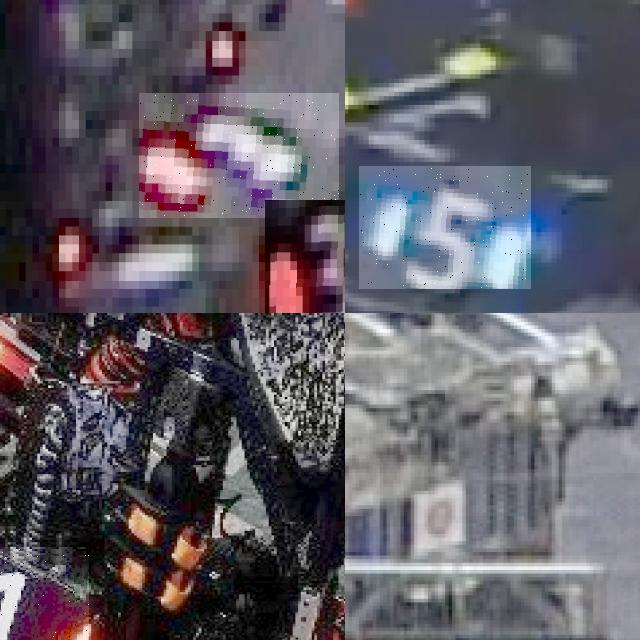B5: (359, 166, 531, 289)
R1: (0, 547, 88, 640)
R3: (139, 93, 339, 218), (265, 200, 345, 313)
